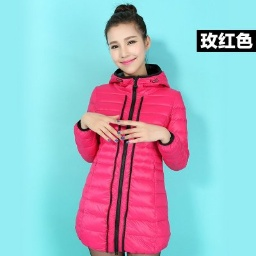face: (105, 3, 154, 76)
